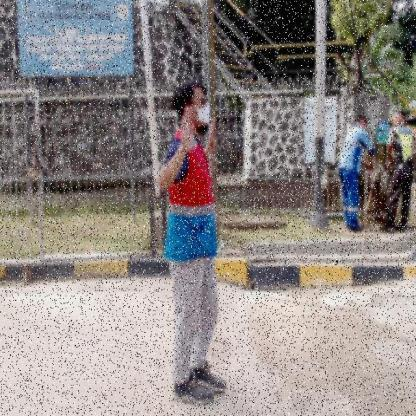boots: (172, 376, 214, 406), (192, 360, 228, 394)
mask: (197, 104, 211, 128)
